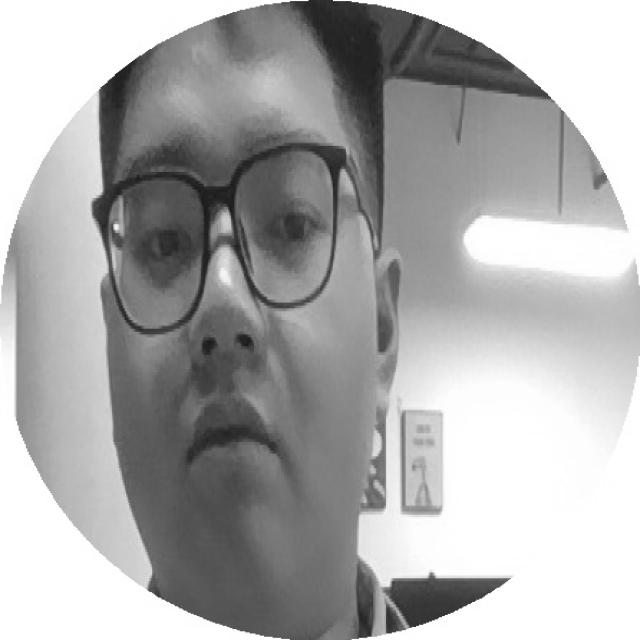real: (117, 67, 377, 602), (114, 188, 334, 276)
